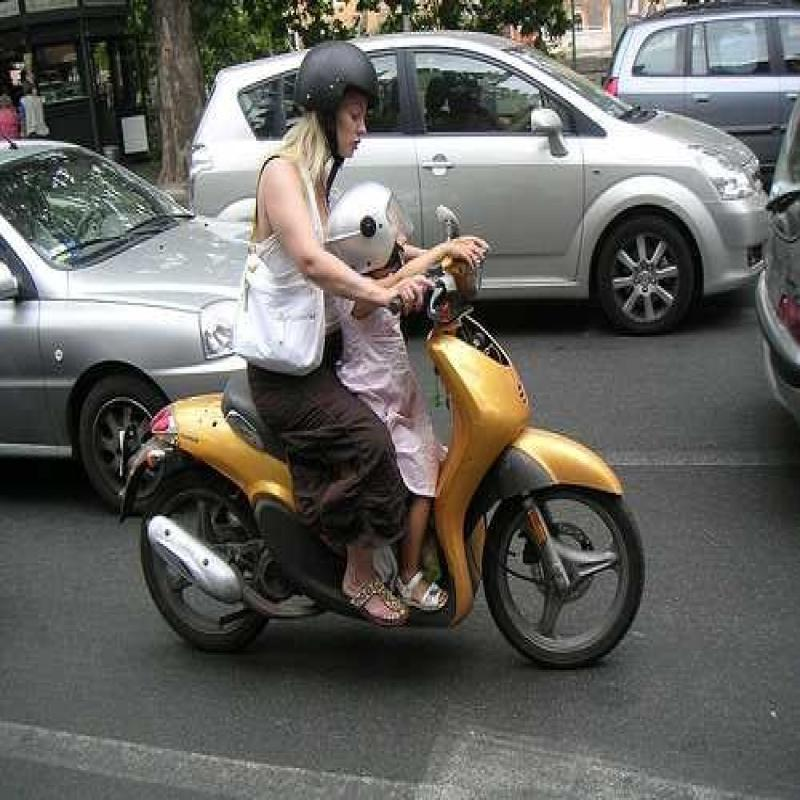bike: (155, 256, 665, 689)
